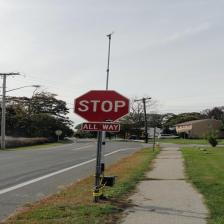Stop-sign: (68, 85, 138, 134)
